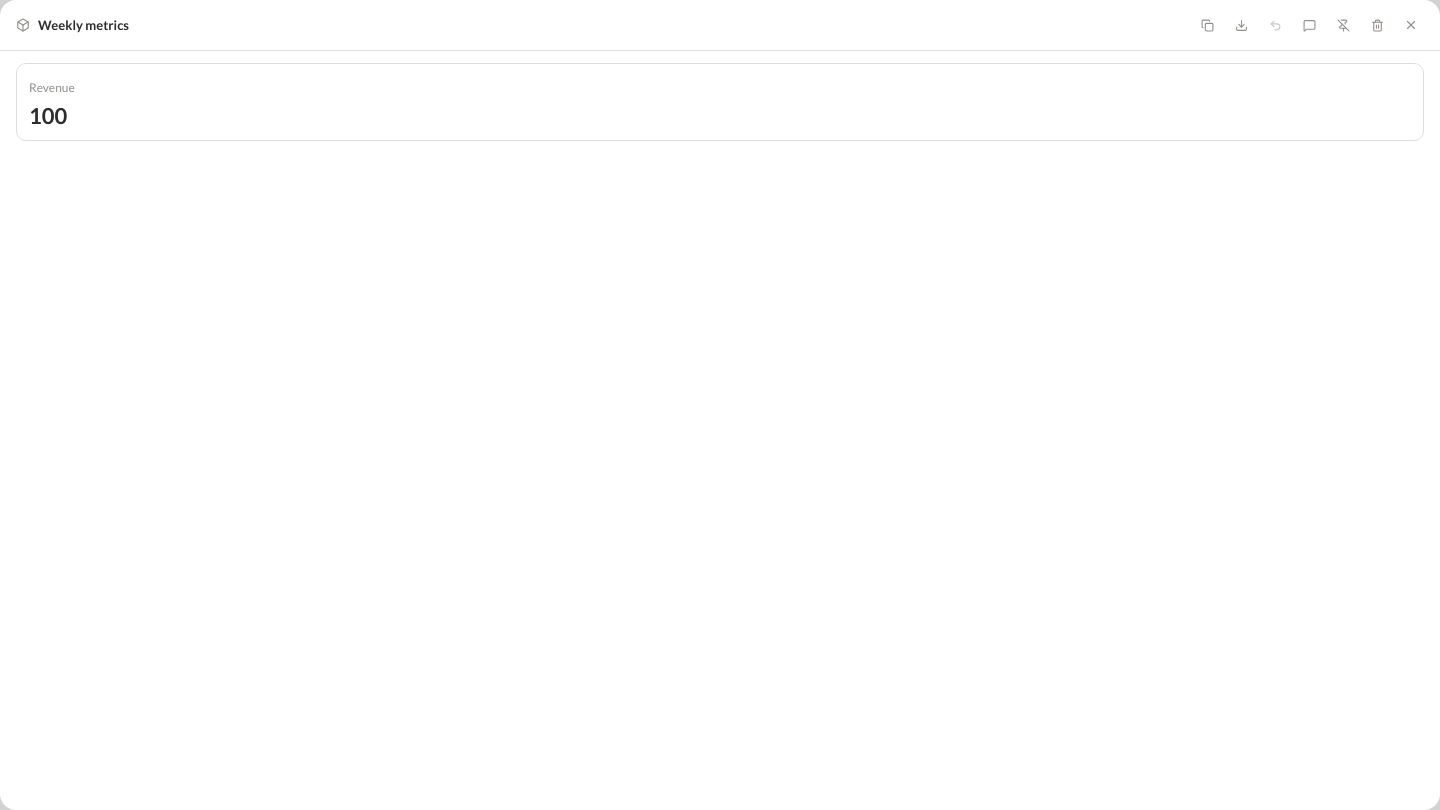
Test: ArtifactPreview › shows an inline error and leaves the view open when delete fails
Click the button named "Delete artifact" at coordinates (1377, 25), box [1364,12,1390,38]
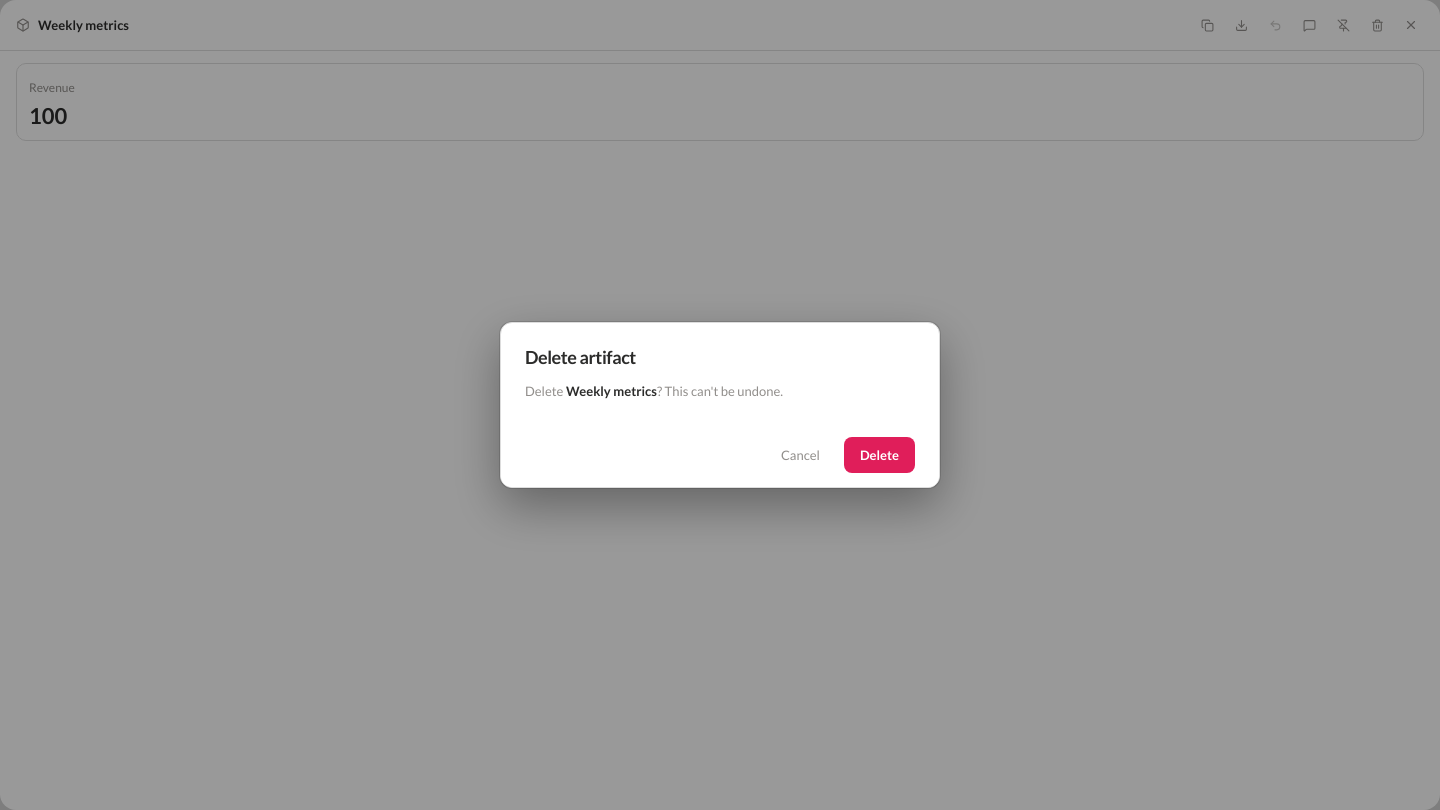
Click the button "Delete" at coordinates (879, 455), box [844,437,915,473]
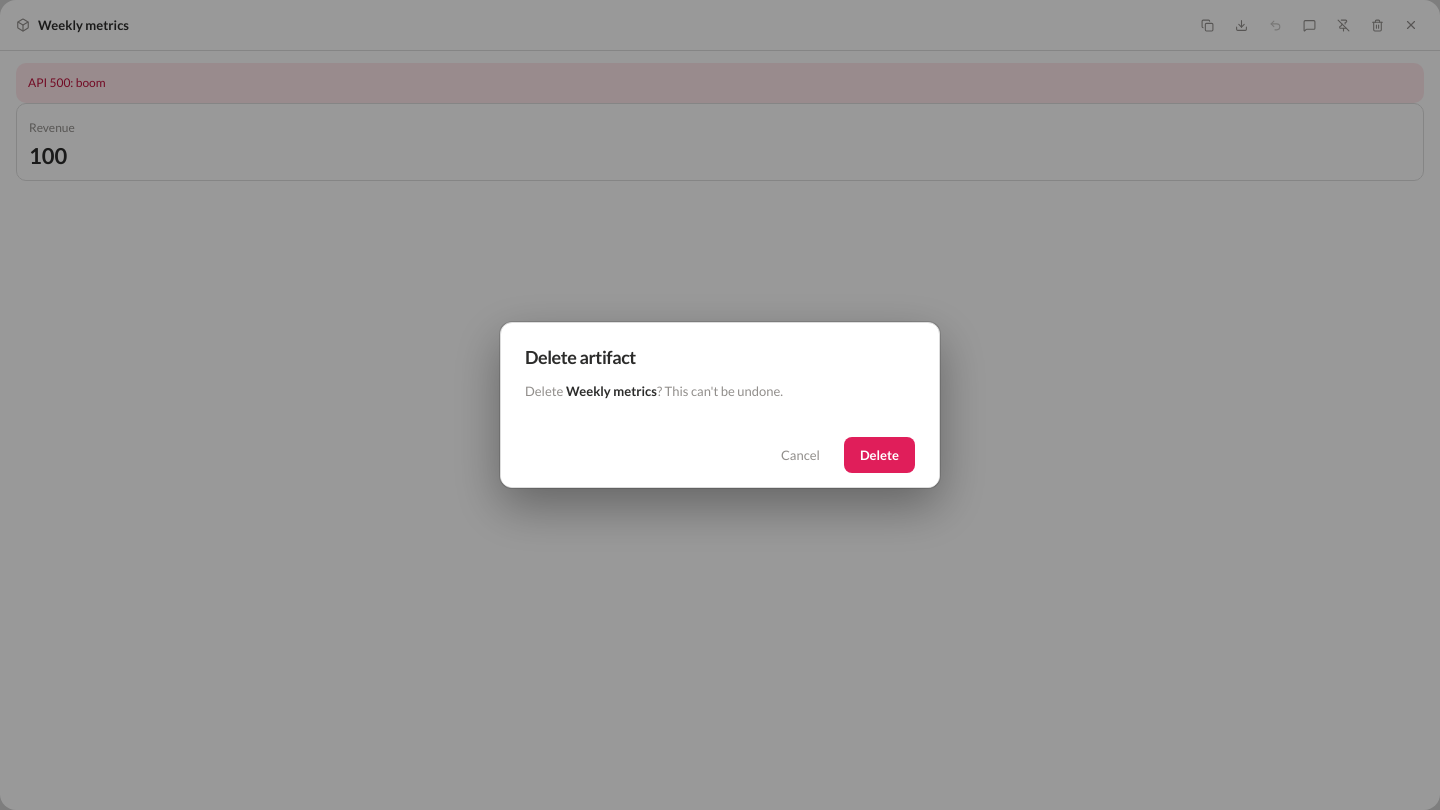
Check: the text "API 500: boom" is shown, box [16,63,1424,103]
